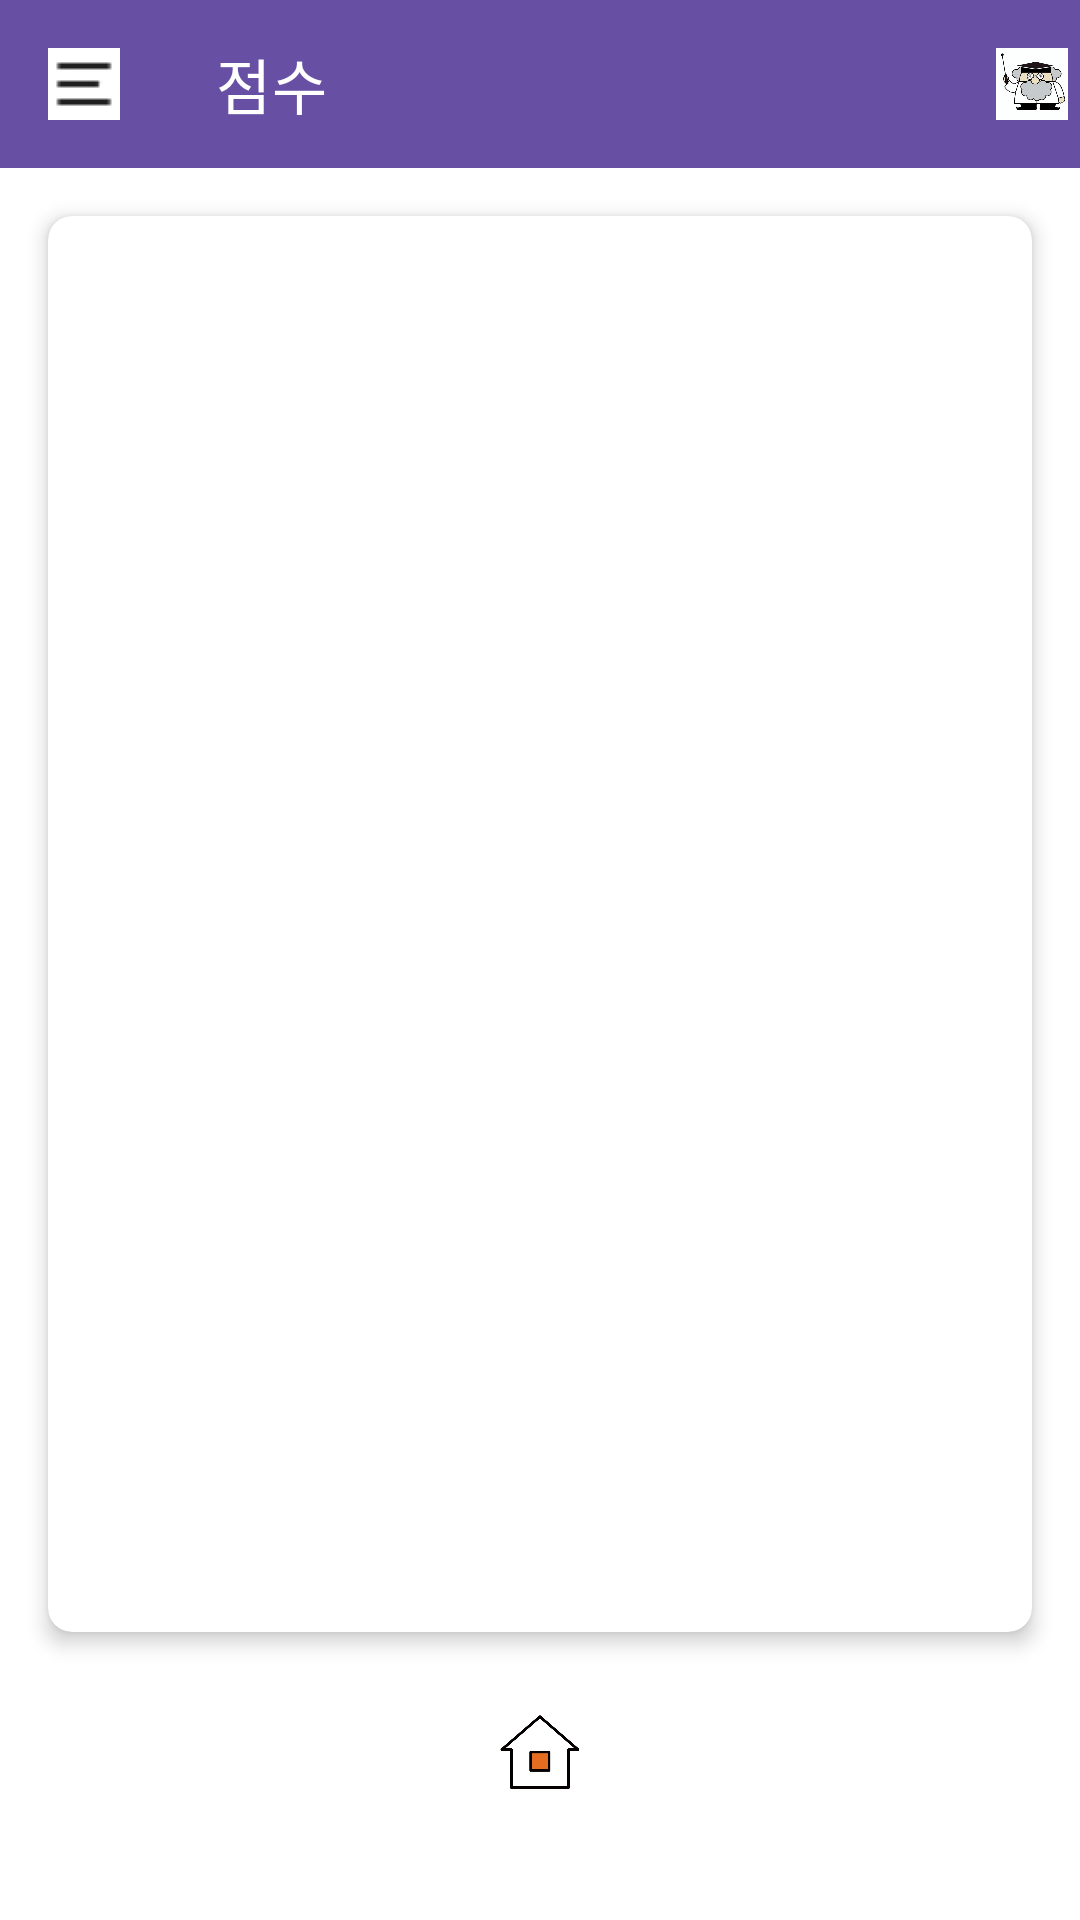

Named icons in this screenshot (1080x1920) and their centers, point (x, y):
홈으로: point (539, 1752)
